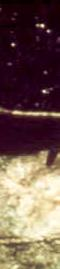Tomato leaf late blight: (0, 50, 60, 269)
